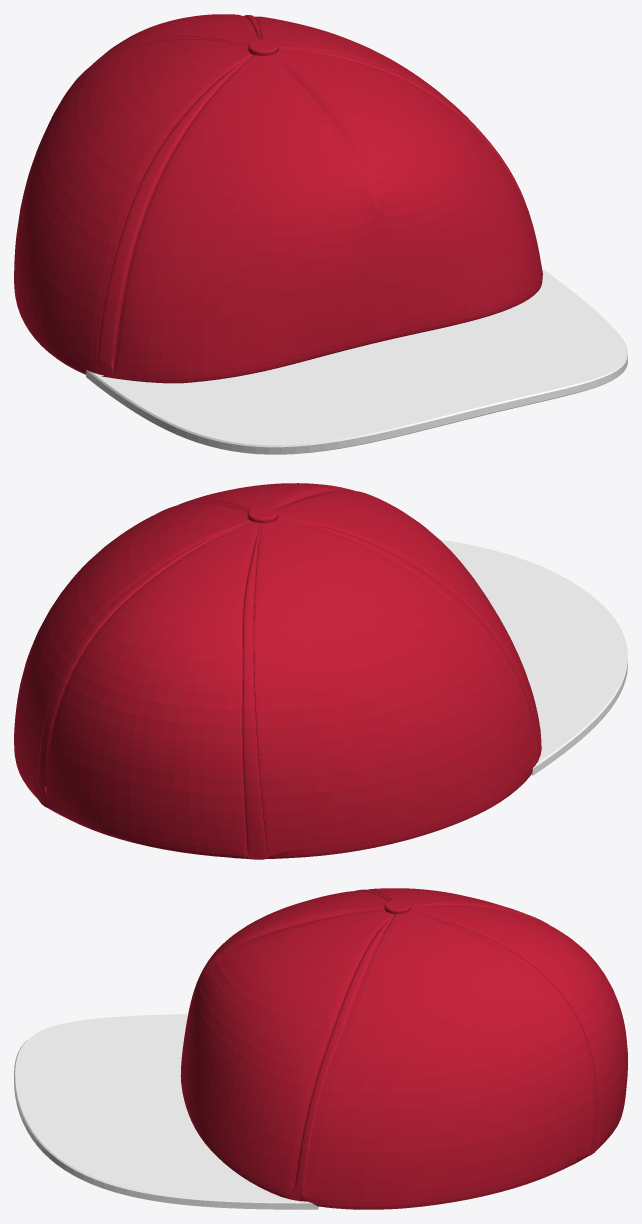
Rendered from hat@idle.fbx.
3 views of the same model, one above another, from view 1: azimuth 30°, elevation 25°; view 2: azimuth 150°, elevation 25°; view 3: azimuth 270°, elevation 25° (orthographic). The views are drawn at different scales.
Visible parts, largest first — view 1: polySurface4; view 2: polySurface4; view 3: polySurface4.
Boxes of the visible parts, x1,y1,x2,y2 form: polySurface4: (14, 14, 627, 454); polySurface4: (14, 483, 627, 859); polySurface4: (14, 888, 627, 1209).
Size of the model in its own units: 9.51 by 4.9 by 12.87.
